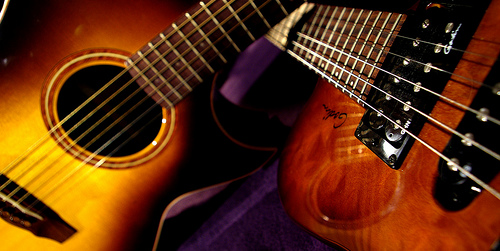guitar: (1, 1, 312, 250), (254, 1, 498, 251)
